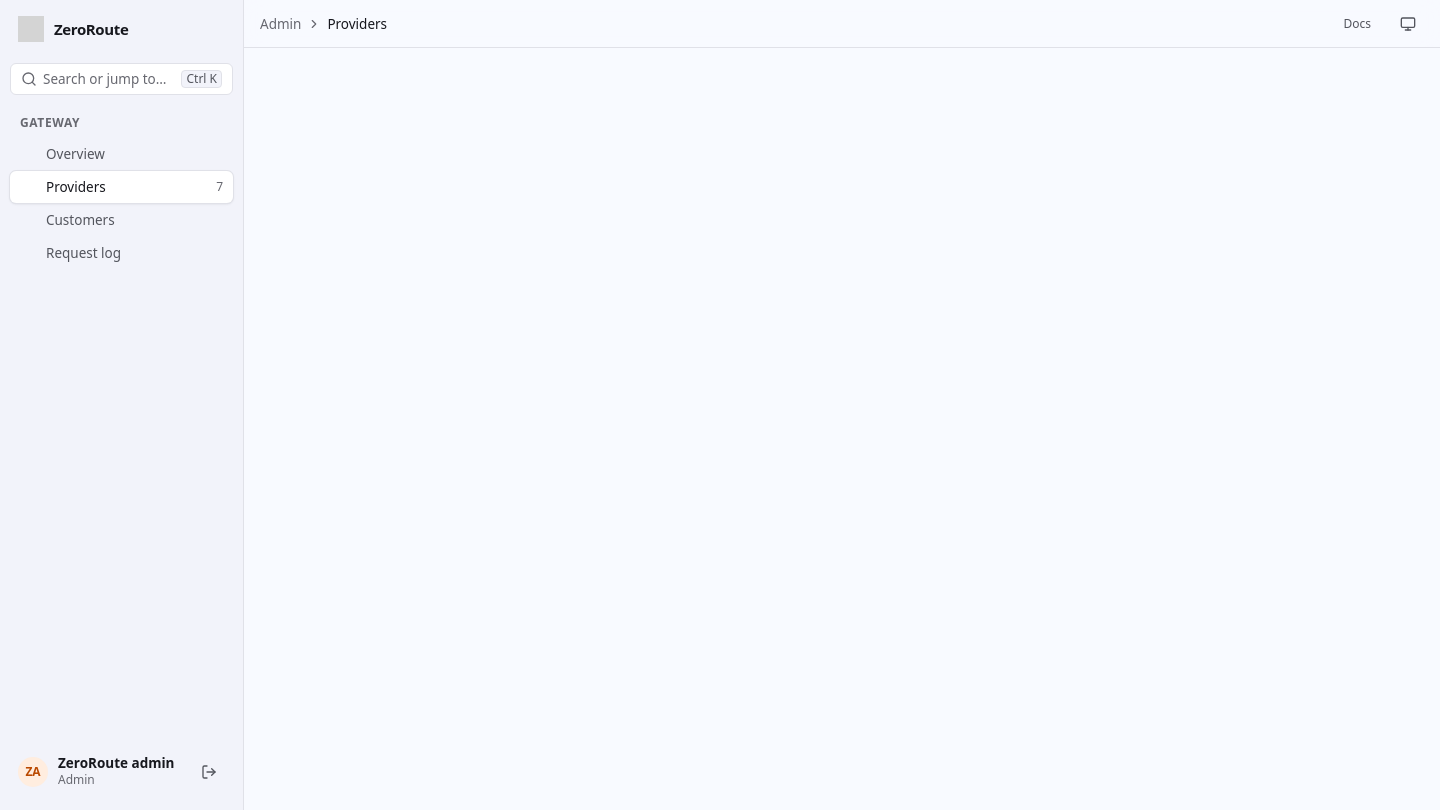
Test case: CommandPalette (through the shell) › opens from the search button and navigates with arrows + Enter
Click the button "Search or jump to… Ctrl K" at [122, 79], box [10,63,233,95]
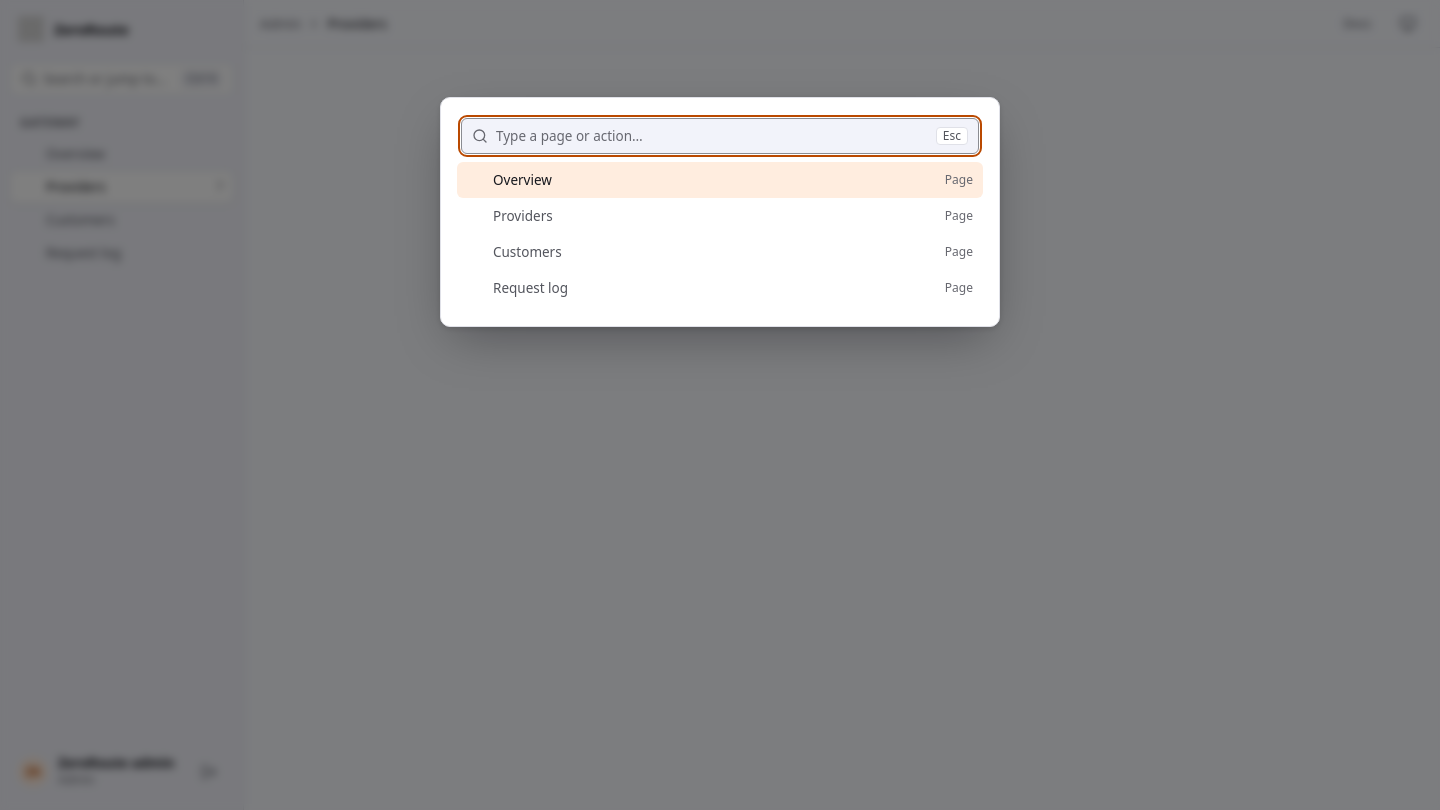
Press Arrowdown Arrowdown
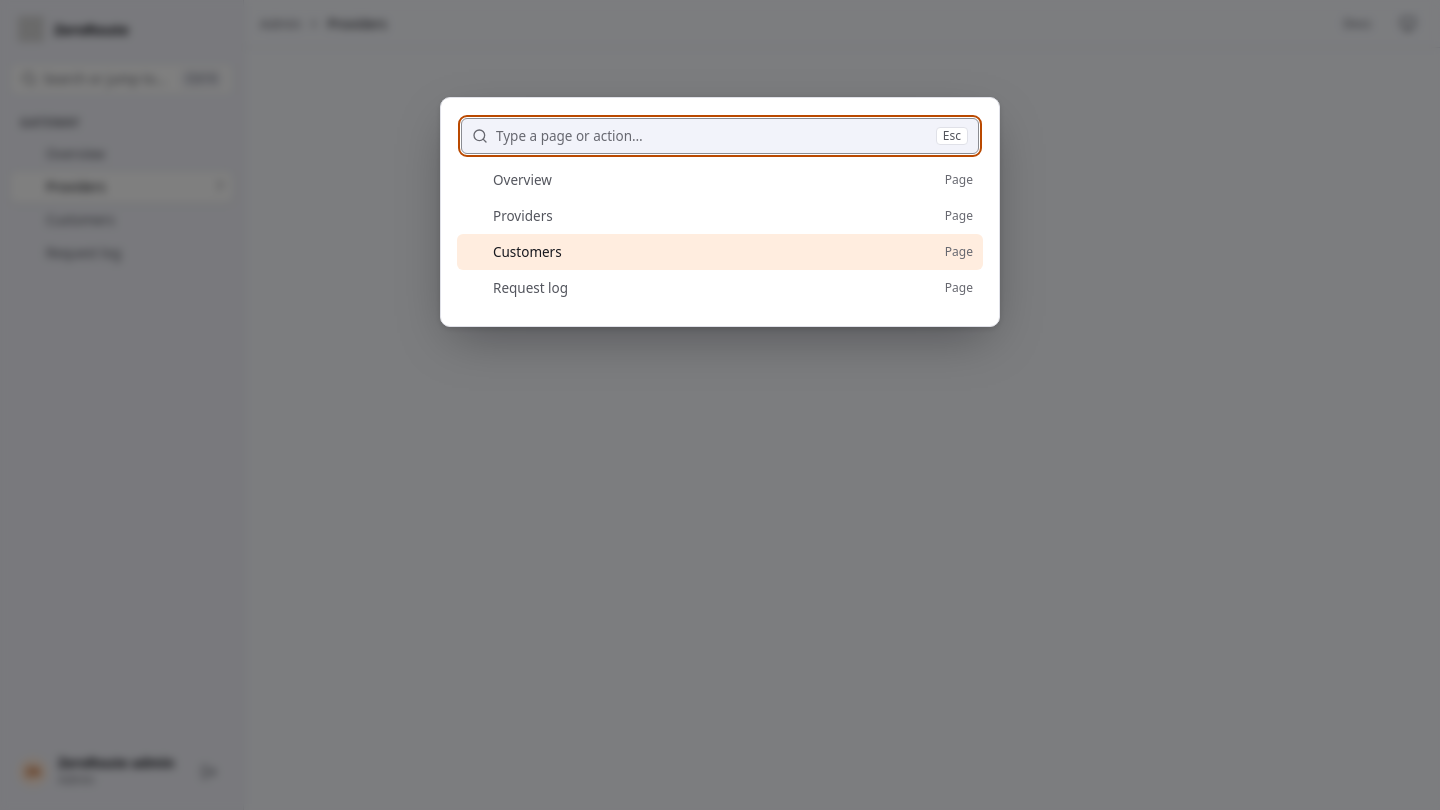
Expected: the option "Customers Page" is shown, [457,234,983,270]
Press Arrowup Enter
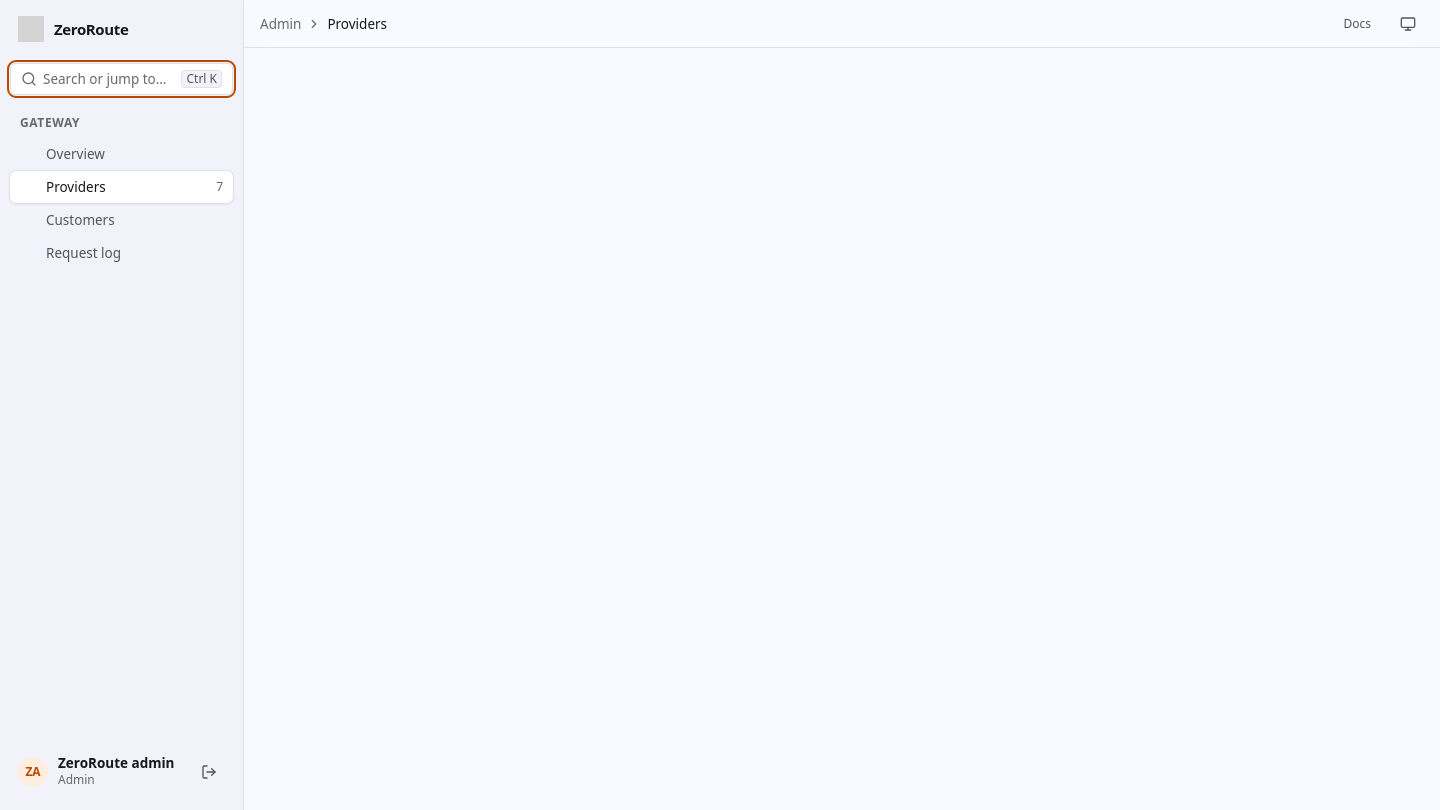
Expected: the dialog is gone
